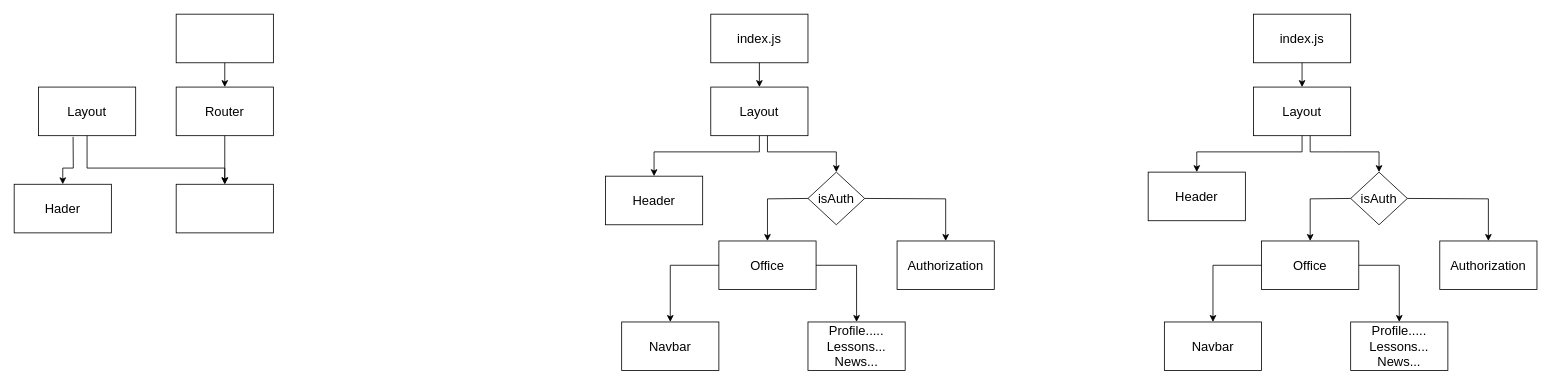
Some shapes in this 1551 by 385 pixel diagram are drawn without their labels. The centre of each missing label's shape, as x and y in pixels:
Home: (x=224, y=208)
main.js: (x=224, y=38)
